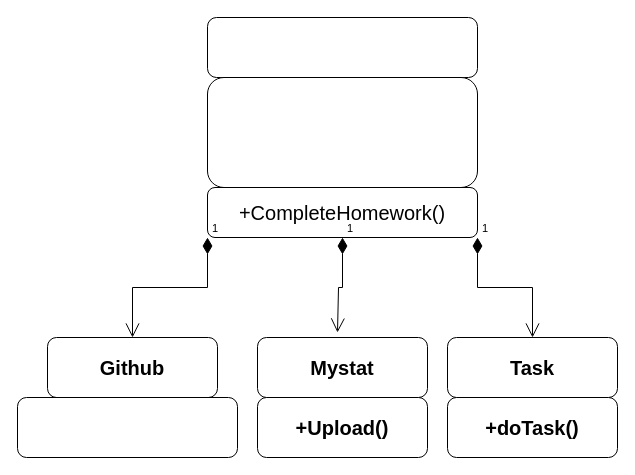
Some shapes in this 635 by 475 pixel diagram are drawn without their labels. The centre of each missing label's shape, as x and y in pixels:
"+createRepository()" belongs at point 127,427.
"- Github github - Mystat mystat - Task task" belongs at point 342,132.
"HomeWork" belongs at point 342,47.
